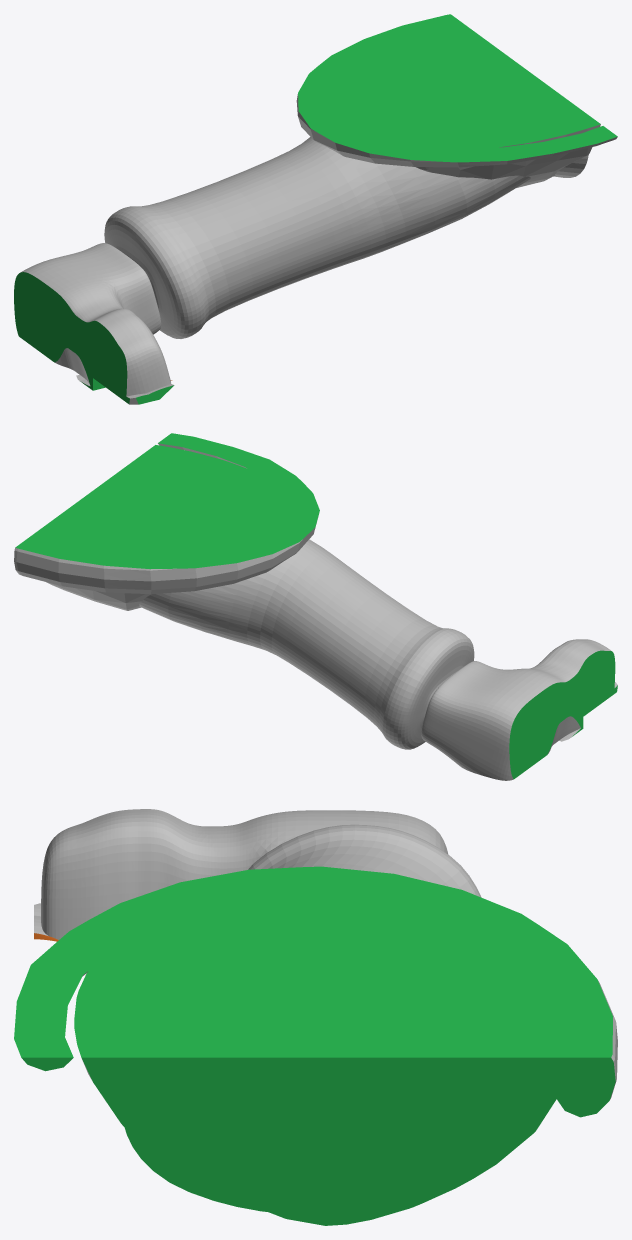
The model's file is jambe1.glb.
3 renders of one model, top to bottom at view 1: azimuth 30°, elevation 25°; view 2: azimuth 150°, elevation 25°; view 3: azimuth 270°, elevation 25°, orthographic. The views are drawn at different scales.
Size of the model in its own units: 0.0392 by 0.013 by 0.0241.
